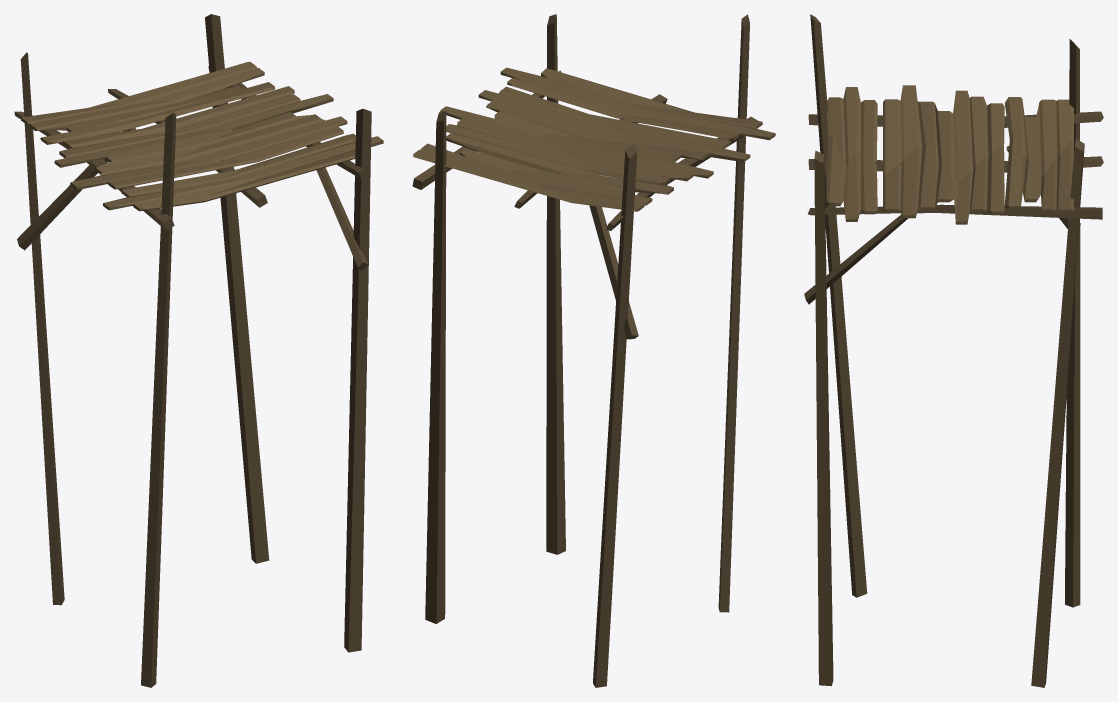
File: SM_Bld_Rickety_Dock_Platform_01.glb
3 views of the same model, side by side, from view 1: azimuth 30°, elevation 25°; view 2: azimuth 150°, elevation 25°; view 3: azimuth 270°, elevation 25° (orthographic). The views are drawn at different scales.
Parts seen in each view (by area): view 1: SM_Bld_Rickety_Dock_Platform_01; view 2: SM_Bld_Rickety_Dock_Platform_01; view 3: SM_Bld_Rickety_Dock_Platform_01.
Part boxes in pixels (<box>): SM_Bld_Rickety_Dock_Platform_01: <box>14,14,383,687</box>; SM_Bld_Rickety_Dock_Platform_01: <box>412,14,775,687</box>; SM_Bld_Rickety_Dock_Platform_01: <box>804,14,1103,687</box>.
Bounding box in the file's own units: 0.0434 × 0.0866 × 0.0404.
